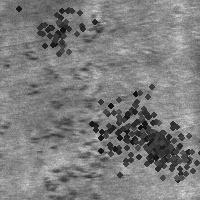rolled-in_scale: (69, 70, 183, 184), (31, 52, 105, 199), (106, 92, 194, 180), (16, 0, 102, 69), (145, 125, 200, 189), (52, 13, 104, 48), (134, 125, 174, 165)
